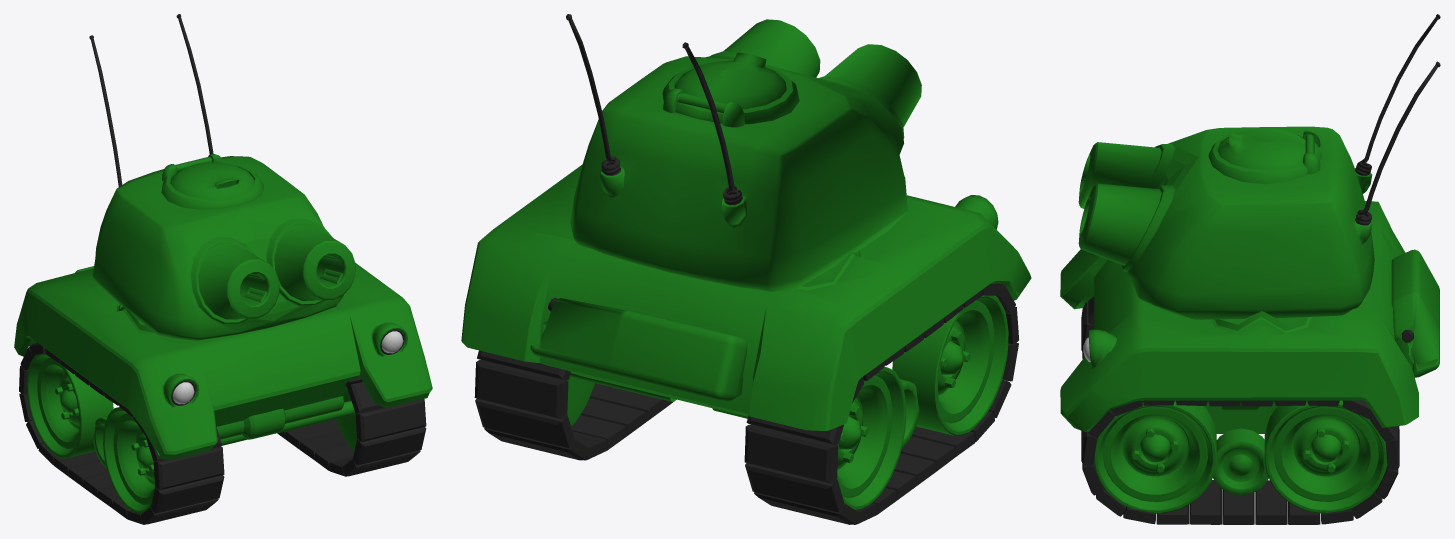
Rendered from heavy tank.fbx.
The picture shows the model from 3 angles, left to right: view 1: azimuth 30°, elevation 25°; view 2: azimuth 150°, elevation 25°; view 3: azimuth 270°, elevation 25°; orthographic projection. The views are drawn at different scales.
Parts seen in each view (by area): view 1: TankChassis, TankTurret001, TankTracksRight, TankTracksRight001; view 2: TankChassis, TankTurret001, TankTracksRight, TankTracksRight001; view 3: TankTurret001, TankChassis, TankTracksRight001, TankTracksRight.
Part boxes in pixels (x1,y1,x2,y2): TankChassis: (14, 263, 432, 468); TankTurret001: (89, 14, 355, 340); TankTracksRight: (19, 343, 246, 524); TankTracksRight001: (277, 375, 426, 476); TankChassis: (461, 164, 1031, 448); TankTurret001: (566, 14, 921, 292); TankTracksRight: (712, 283, 1018, 524); TankTracksRight001: (474, 350, 676, 460); TankTurret001: (1078, 14, 1440, 319); TankChassis: (1060, 201, 1439, 495); TankTracksRight001: (1081, 400, 1399, 524); TankTracksRight: (1081, 296, 1094, 358).
Size of the model in its own units: 104 by 131 by 108.
